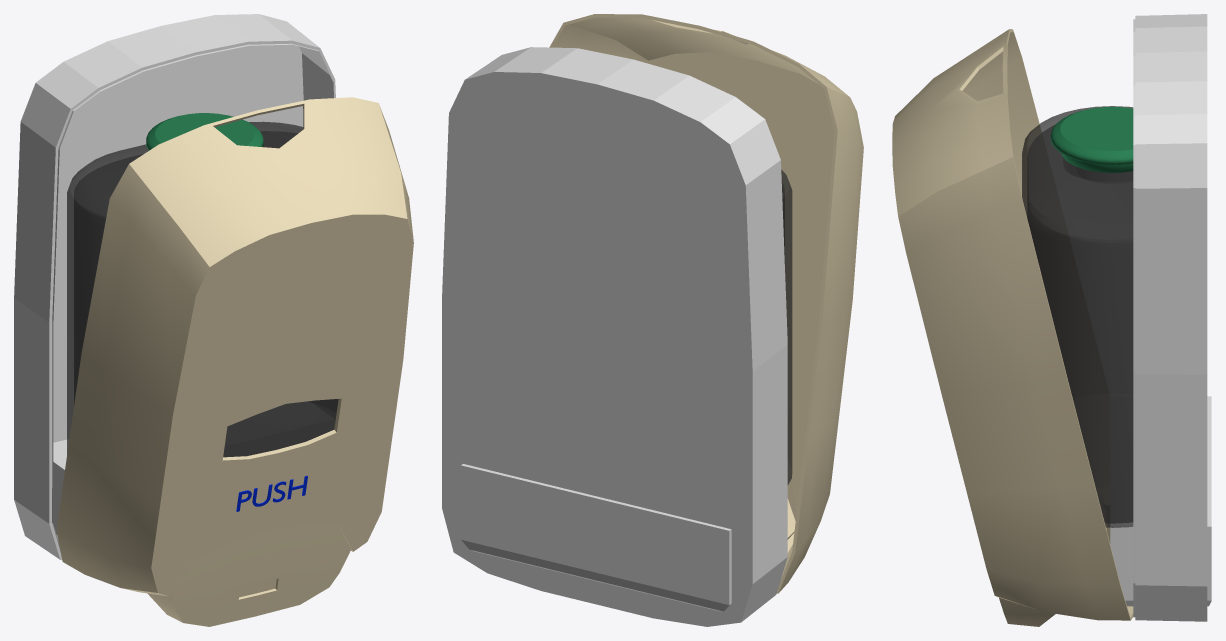
Rendered from soap_container.fbx.
The picture shows the model from 3 angles, left to right: view 1: azimuth 30°, elevation 25°; view 2: azimuth 150°, elevation 25°; view 3: azimuth 270°, elevation 25°; orthographic projection. The views are drawn at different scales.
Parts seen in each view (by area): view 1: soap dispencer.001, soap dispencer.004, Cylinder.024, Cylinder.025; view 2: soap dispencer.004, soap dispencer.001, Cylinder.024; view 3: soap dispencer.001, soap dispencer.004, Cylinder.024, Cylinder.025.
Part boxes in pixels (x1=…): soap dispencer.001: x1=56, y1=97, x2=413, y2=626; soap dispencer.004: x1=14, y1=14, x2=335, y2=559; Cylinder.024: x1=67, y1=121, x2=338, y2=457; Cylinder.025: x1=146, y1=113, x2=263, y2=150; soap dispencer.004: x1=442, y1=47, x2=787, y2=626; soap dispencer.001: x1=549, y1=14, x2=863, y2=593; Cylinder.024: x1=781, y1=169, x2=792, y2=485; soap dispencer.001: x1=892, y1=29, x2=1133, y2=626; soap dispencer.004: x1=1110, y1=14, x2=1211, y2=621; Cylinder.024: x1=1022, y1=106, x2=1133, y2=527; Cylinder.025: x1=1050, y1=106, x2=1133, y2=172.
Size of the model in its own units: 15.44 by 26.2 by 13.84.
